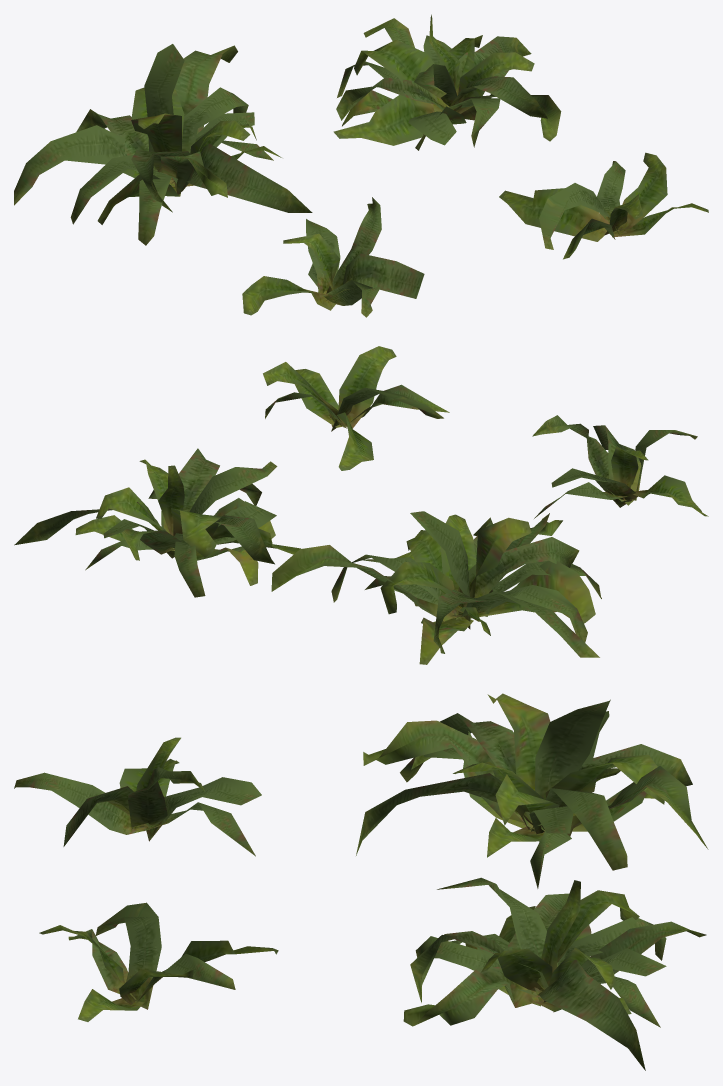
File: fern_02_lod1.glb
3 views of the same model, one above another, from view 1: azimuth 30°, elevation 25°; view 2: azimuth 150°, elevation 25°; view 3: azimuth 270°, elevation 25° (orthographic). The views are drawn at different scales.
Visible parts, largest first — view 1: fern_02_b, fern_02_c, fern_02_d, fern_02_a; view 2: fern_02_b, fern_02_c, fern_02_d, fern_02_a; view 3: fern_02_b, fern_02_c, fern_02_a, fern_02_d.
Boxes of the visible parts, bbox=[...] form: fern_02_b: bbox=[14, 44, 312, 245]; fern_02_c: bbox=[333, 14, 561, 150]; fern_02_d: bbox=[499, 152, 708, 259]; fern_02_a: bbox=[242, 197, 424, 317]; fern_02_b: bbox=[271, 511, 601, 664]; fern_02_c: bbox=[14, 448, 300, 597]; fern_02_d: bbox=[263, 346, 449, 470]; fern_02_a: bbox=[532, 415, 708, 518]; fern_02_b: bbox=[356, 693, 708, 888]; fern_02_c: bbox=[403, 877, 706, 1070]; fern_02_a: bbox=[14, 737, 261, 856]; fern_02_d: bbox=[39, 902, 278, 1021].
Size of the model in its own units: 1.96 by 0.4246 by 1.72.
Materials: 1 (1 with a texture image).
